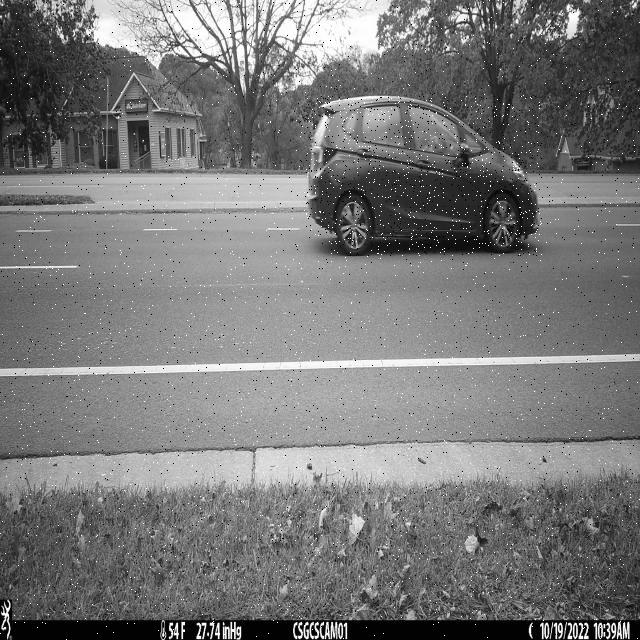Hatchback: (306, 96, 542, 256)
